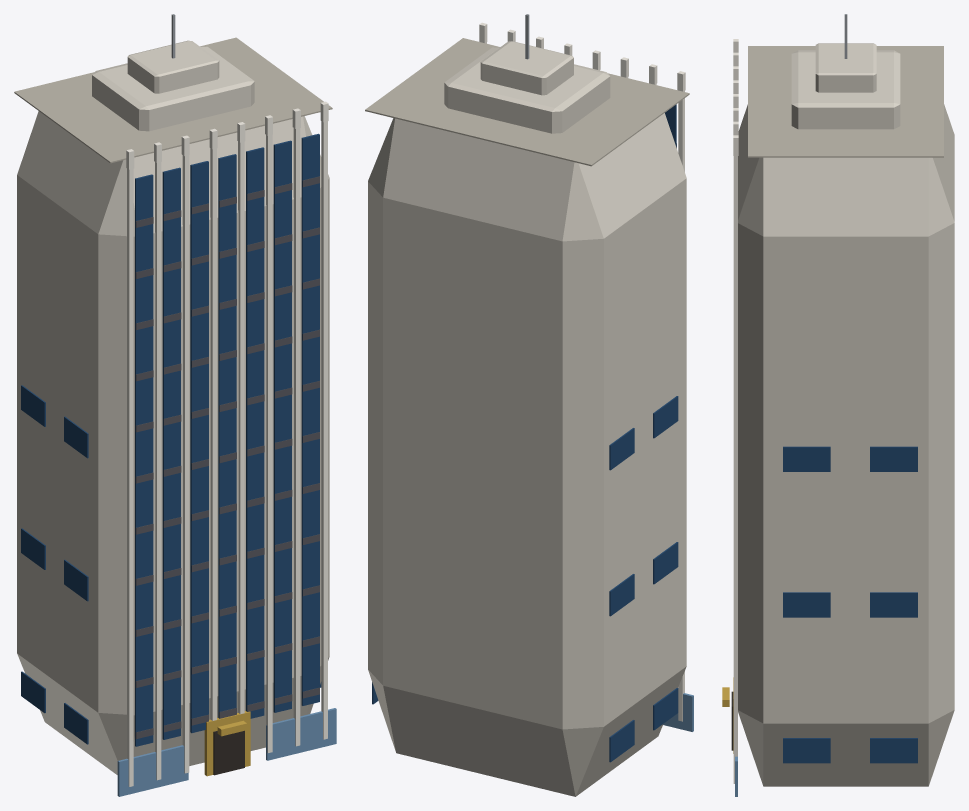
Rendered from office_f12_grid_w18.glb.
The picture shows the model from 3 angles, left to right: view 1: azimuth 30°, elevation 25°; view 2: azimuth 150°, elevation 25°; view 3: azimuth 270°, elevation 25°; orthographic projection.
Parts seen in each view (by area): view 1: walls, roofslab, chan.001, chan.005, chan.006, chan.002, chan.004, chan, chan.003, crown1, pier.002, pier.006 (+17 smaller); view 2: walls, roofslab, crown1, crown2, sb, sb.002, sb.004, sb.006, sb.008, sb.010, pier, gf1; view 3: walls, roofslab, crown1, pier.007, crown2, sb.001, sb.003, sb.005, sb.007, sb.009, sb.011.
Boxes of the visible parts, <box> form: walls: <box>17,111,329,774</box>; roofslab: <box>14,37,332,163</box>; chan.001: <box>162,167,180,739</box>; chan.005: <box>273,140,291,712</box>; chan.006: <box>301,133,319,705</box>; chan.002: <box>190,161,208,733</box>; chan.004: <box>246,147,264,718</box>; chan: <box>135,174,153,746</box>; chan.003: <box>218,154,236,718</box>; crown1: <box>92,46,254,131</box>; pier.002: <box>182,155,189,773</box>; pier.006: <box>293,128,300,746</box>; walls: <box>368,113,686,796</box>; roofslab: <box>365,38,689,166</box>; crown1: <box>444,47,610,133</box>; crown2: <box>480,41,573,95</box>; sb: <box>653,688,678,730</box>; sb.002: <box>609,720,634,762</box>; sb.004: <box>653,542,678,584</box>; sb.006: <box>609,574,634,616</box>; sb.008: <box>653,396,678,438</box>; sb.010: <box>609,428,634,470</box>; pier: <box>678,91,684,721</box>; gf1: <box>663,693,693,731</box>; walls: <box>738,104,954,786</box>; roofslab: <box>748,46,943,157</box>; crown1: <box>791,50,900,129</box>; pier.007: <box>733,156,737,783</box>; crown2: <box>815,43,876,92</box>; sb.001: <box>783,738,830,763</box>; sb.003: <box>870,738,917,763</box>; sb.005: <box>783,592,830,617</box>; sb.007: <box>870,592,917,617</box>; sb.009: <box>783,446,830,471</box>; sb.011: <box>870,446,917,471</box>.
Bounding box in the file's own units: 18.2 × 53.2 × 15.4.
